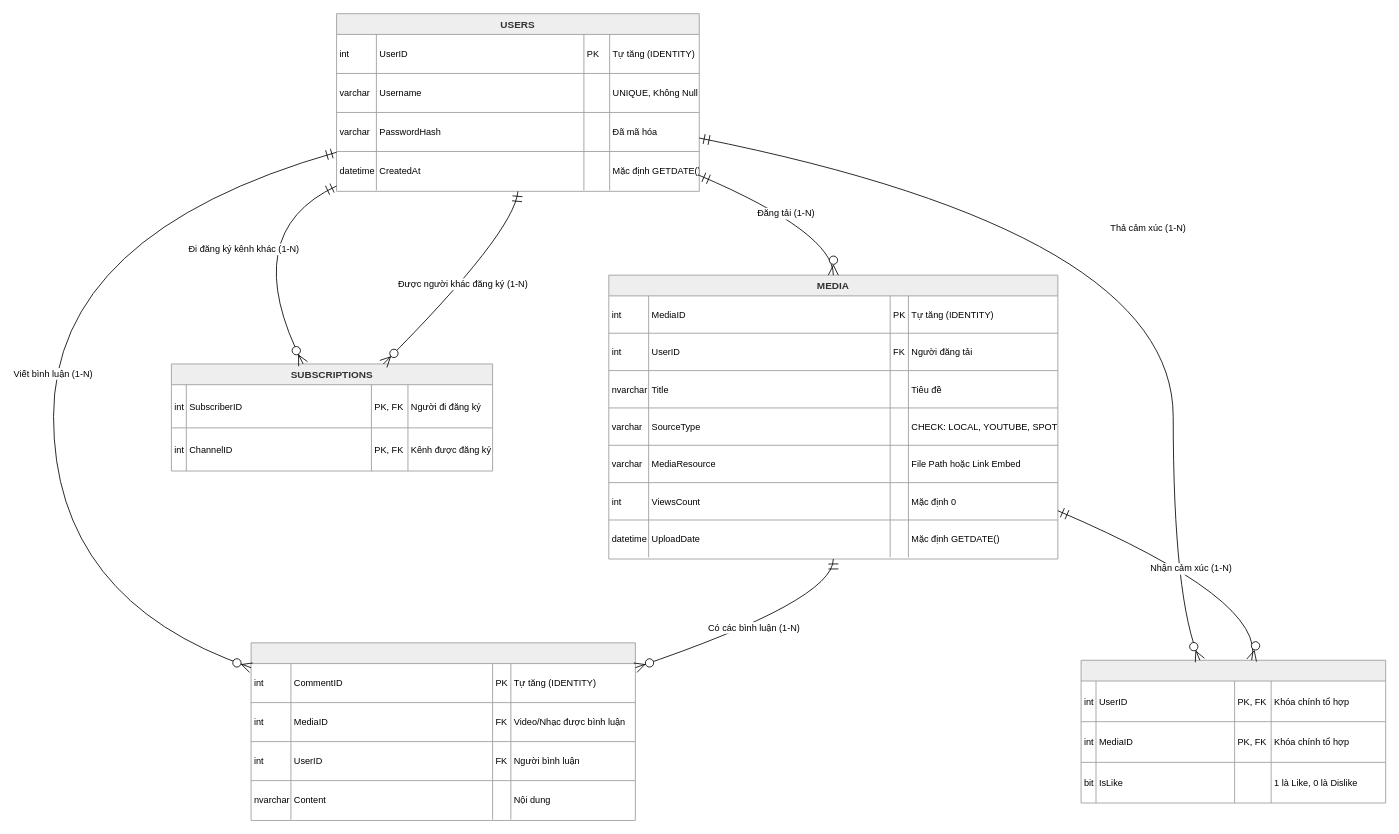
This 1399x834 diagram has some shape labels left out. Each missing label, with the box of its shape:
COMMENTS: (250, 642, 635, 820)
INTERACTIONS: (1080, 659, 1386, 803)
